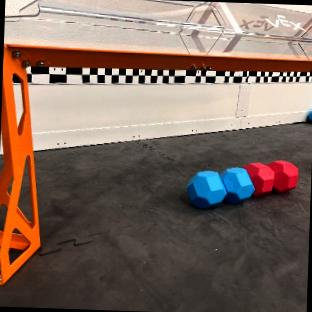Goal: (0, 0, 312, 284)
V5_BLUE: (188, 167, 254, 208), (307, 110, 312, 122)
V5_RED: (245, 160, 298, 196)
